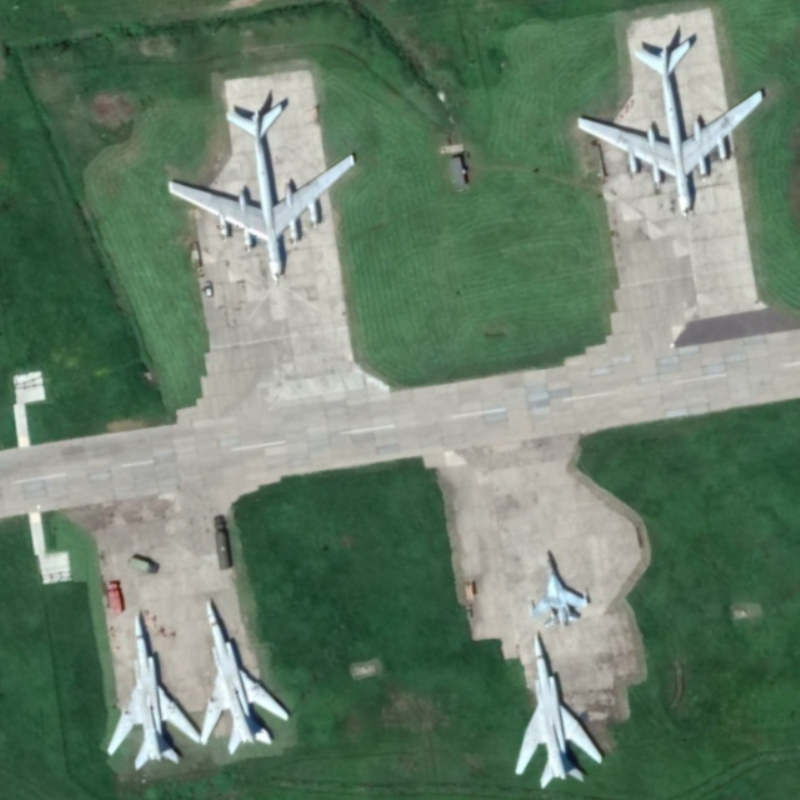A1: (527, 550, 590, 630)
A12: (104, 609, 204, 773), (197, 597, 294, 758), (513, 631, 605, 791)
A17: (166, 102, 359, 278), (574, 37, 767, 212)
